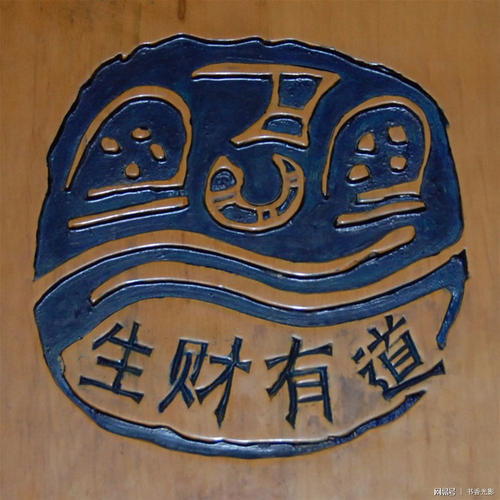chinese: (72, 319, 449, 427)
naxi: (62, 63, 436, 240)
